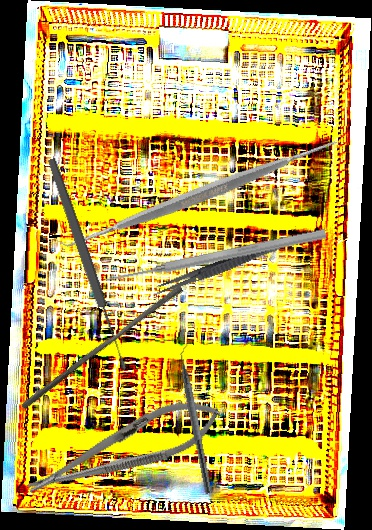Chopper: (173, 341, 223, 495)
Dressing Forceps: (150, 235, 288, 300)
Needle Holder: (18, 386, 229, 512)
Pusher: (20, 279, 184, 416), (103, 225, 328, 288)
Spatula Surgical: (52, 44, 350, 344)
Surgical Spoon: (45, 156, 130, 373)
